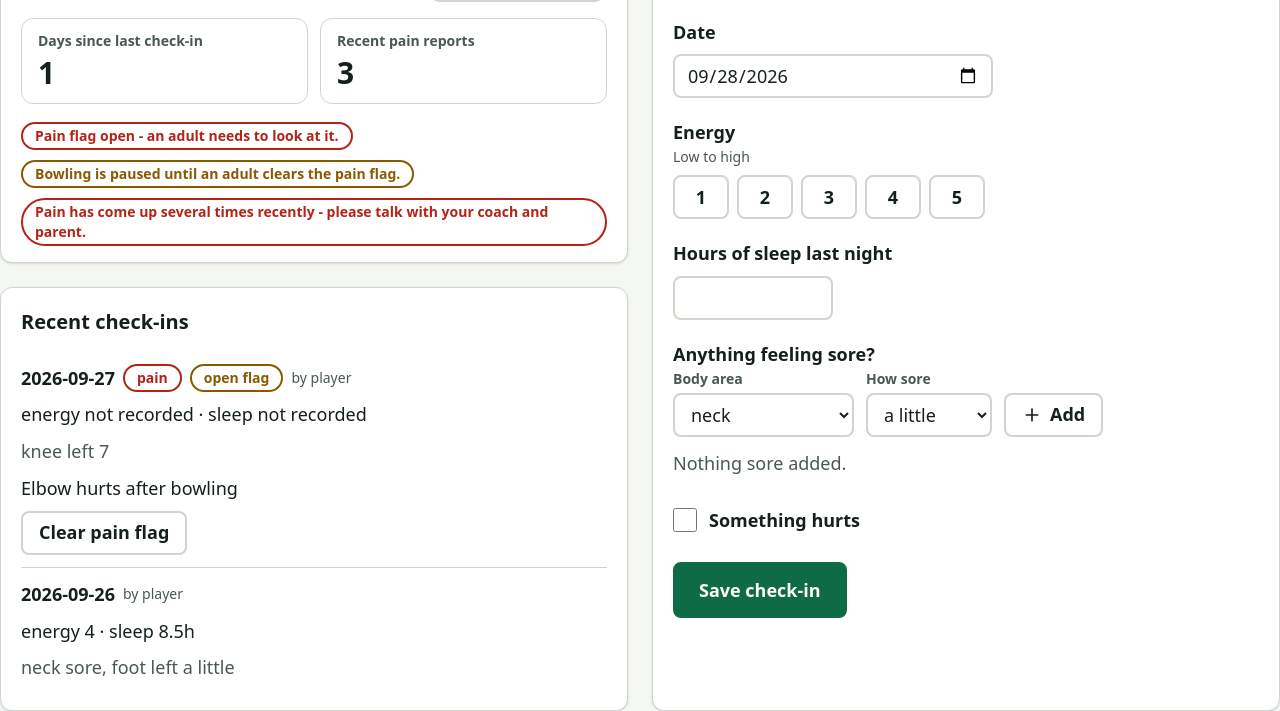
it: adult pain clearance › shows a 409 verbatim and can be cancelled
(page scrolled)
Click the button "Clear pain flag".
click(104, 533)  # box [21,511,187,555]
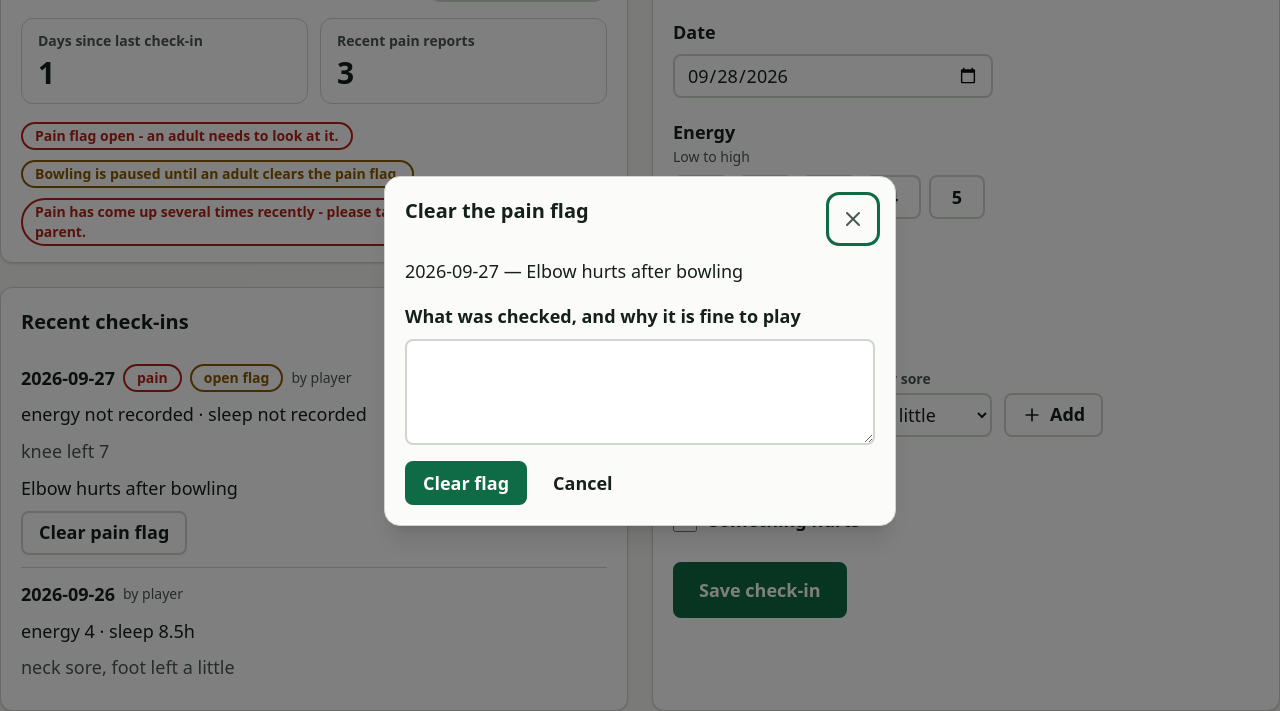
Type "ok" into the text box labelled "What was checked, and why it is fine to play".
click(640, 392); type("ok")  # box [405,339,875,445]
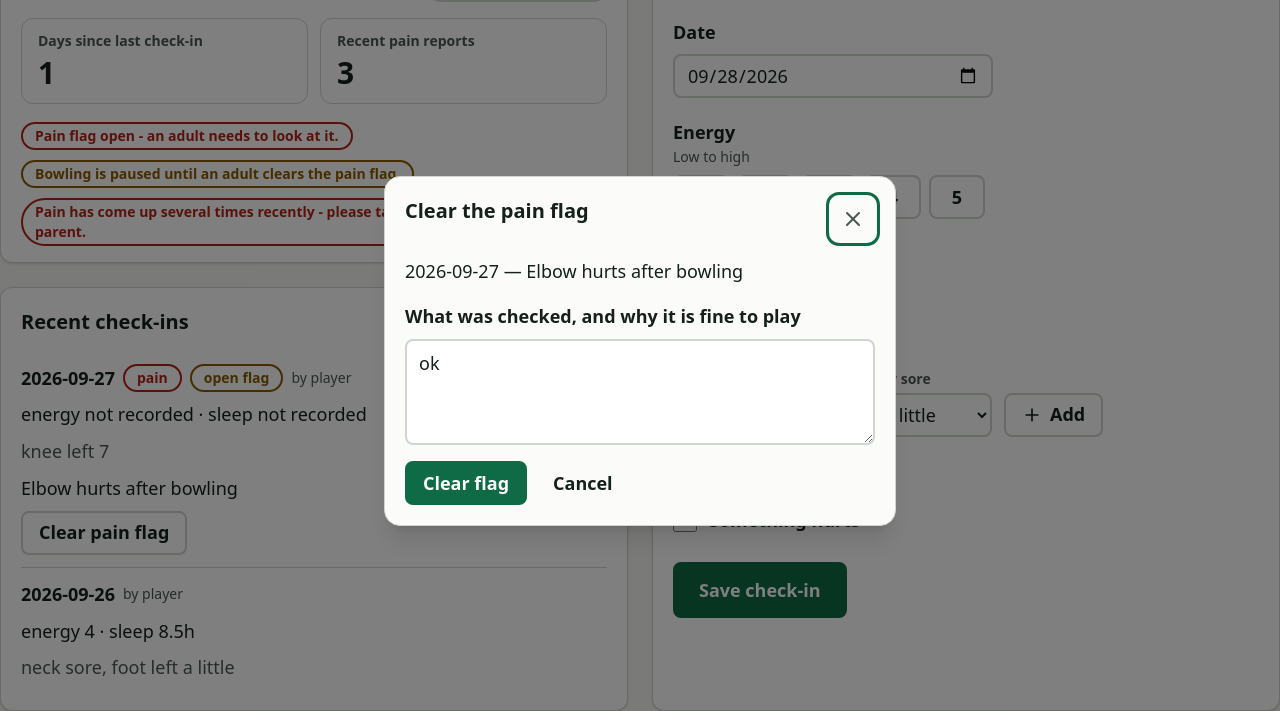
Click the button "Clear flag".
click(466, 483)  # box [405,461,527,505]
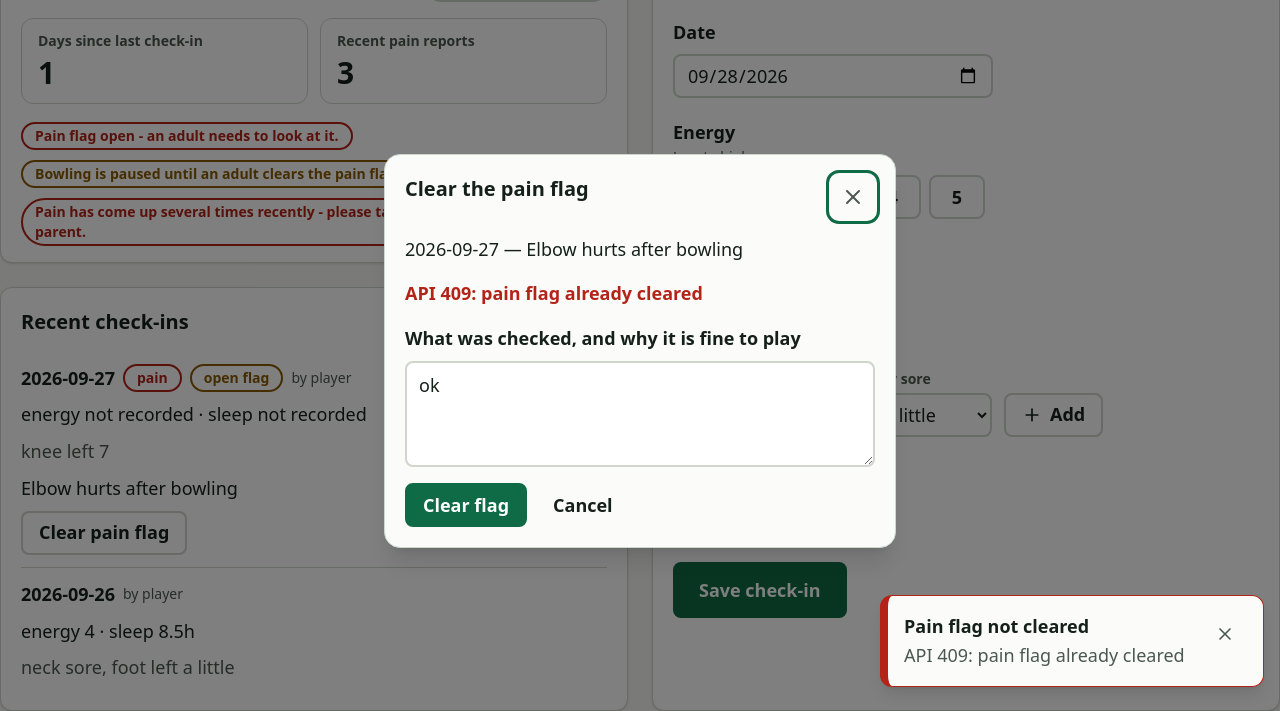
Result: the text "API 409: pain flag already cleared" is shown at [405,281,703,305]
Click the button "Cancel".
click(583, 505)  # box [535,483,630,527]
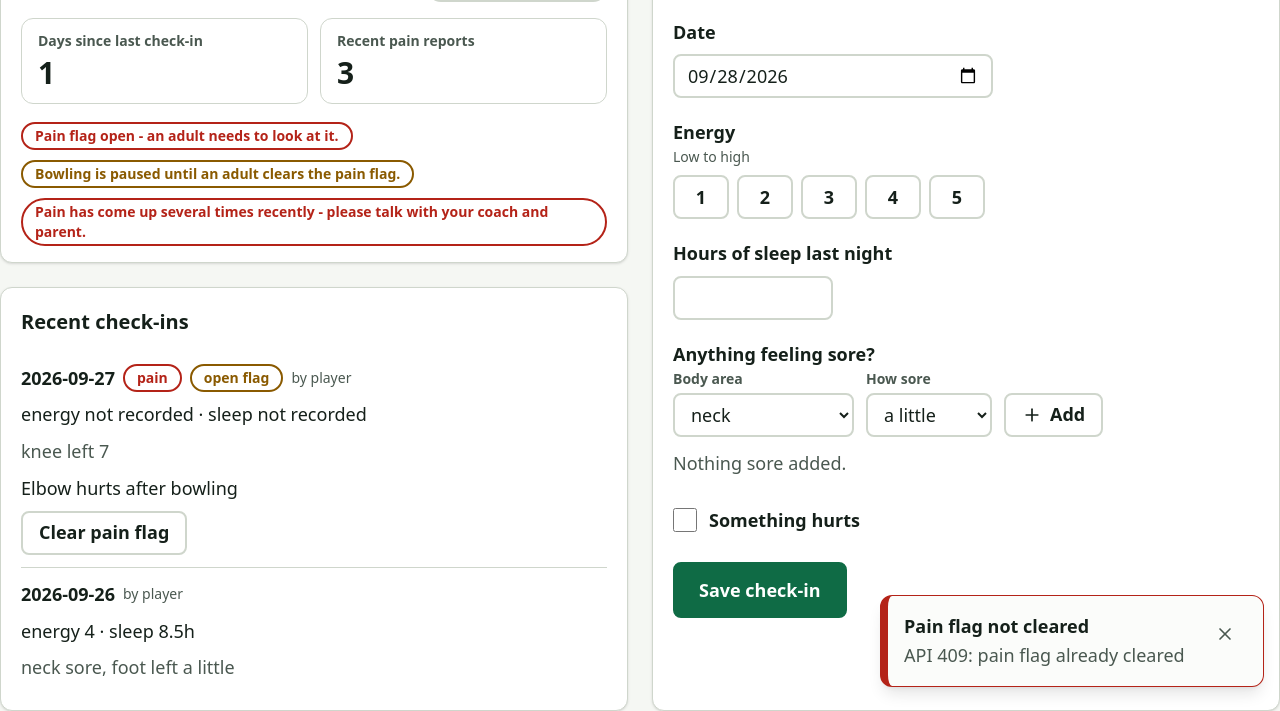
Result: the dialog is gone
